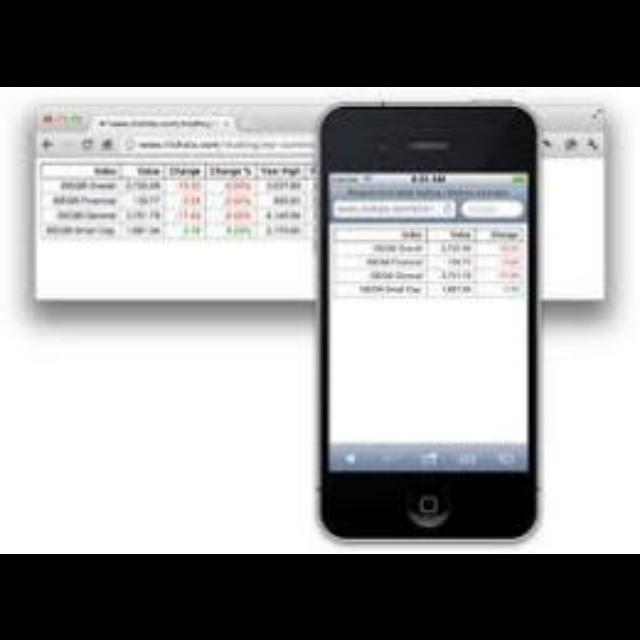Phone: (319, 105, 543, 540)
